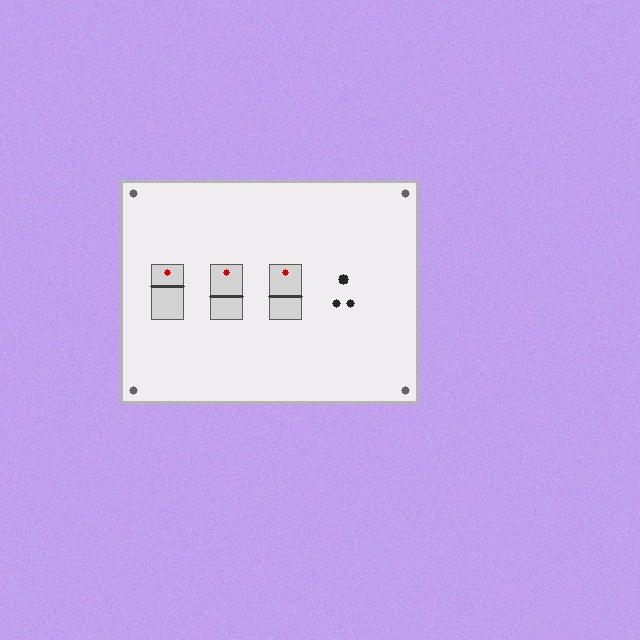switchboard: (121, 181, 417, 402)
